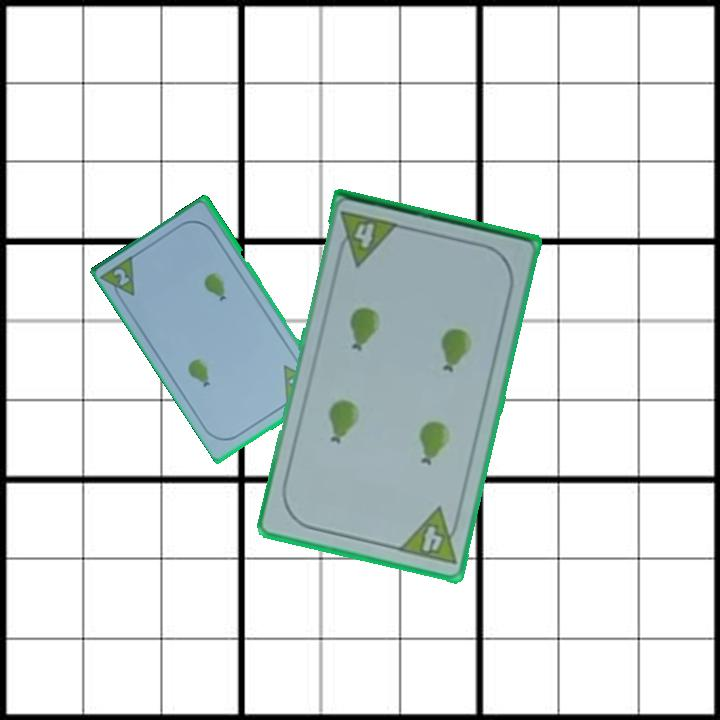2p: (110, 265, 133, 289)
4p: (394, 504, 465, 567), (333, 208, 402, 269)
